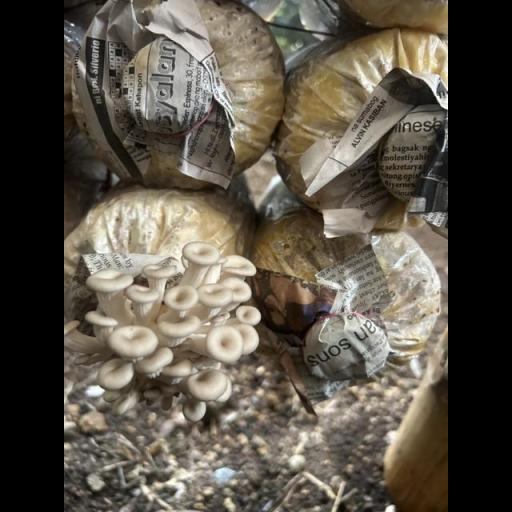White Oyster Mushroom: (77, 237, 273, 432)
